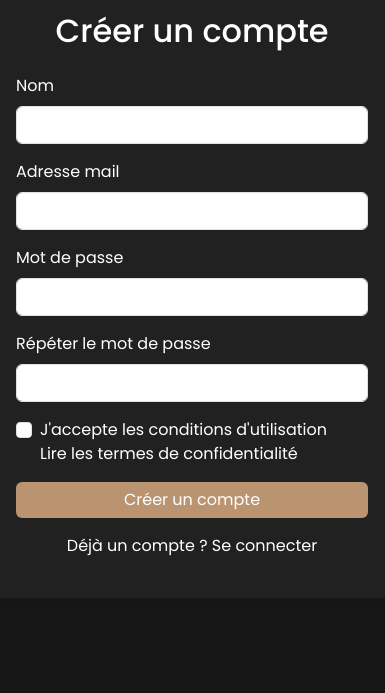
Test: SignupPage.vue - Form Validation › should display error if password is shorter than the minimum length
Type "Pass1!" into the password field labelled "Mot de passe" at (192, 297), box [16,278,368,316]
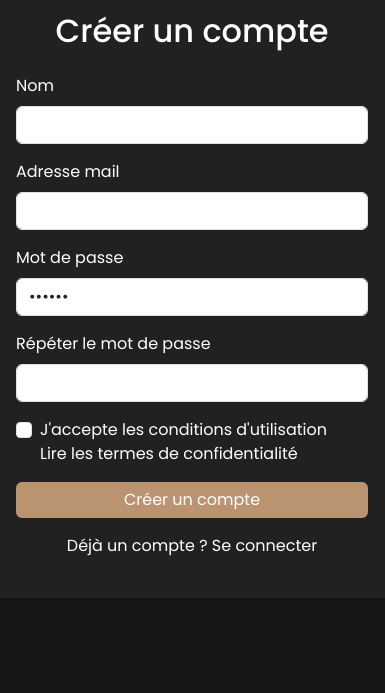
Submit the form
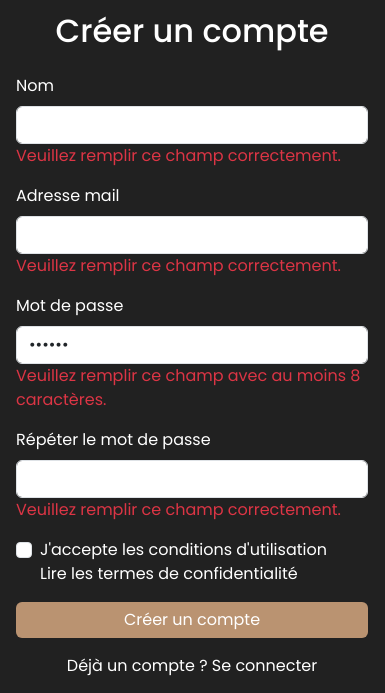
Check: the message "Veuillez remplir ce champ avec au moins 8 caractères." is shown, box [16,364,360,411]
